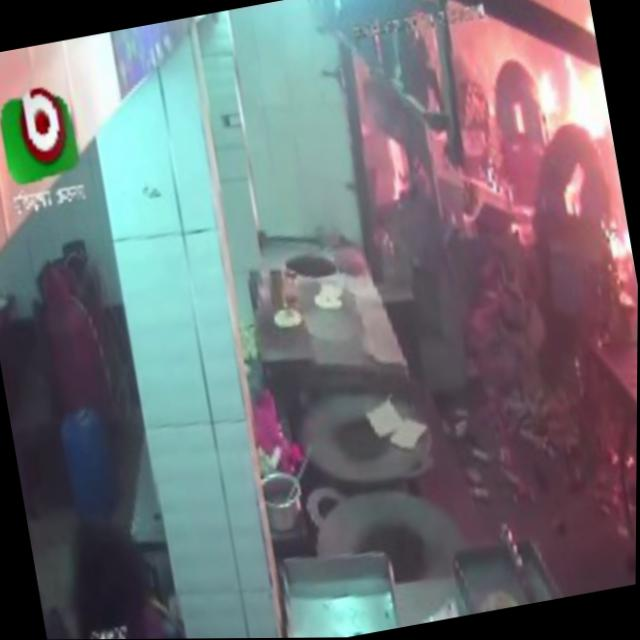fire: (539, 72, 613, 154)
